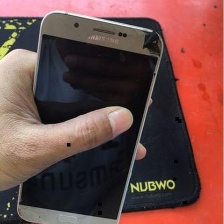phone: (12, 8, 167, 224)
